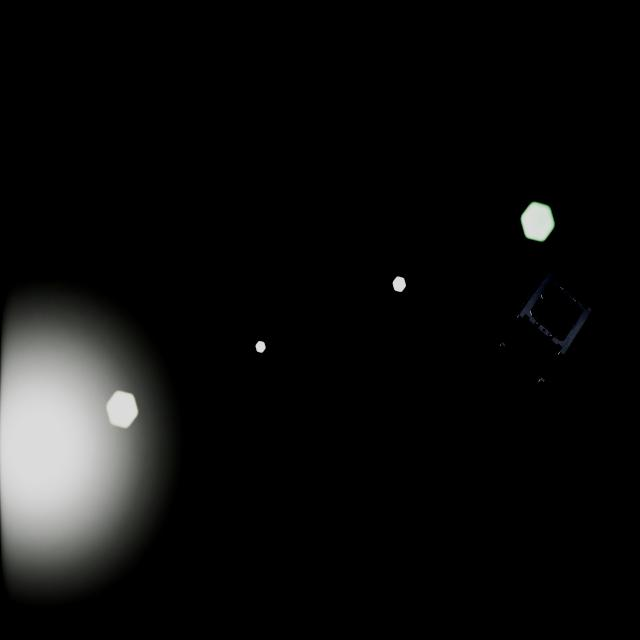satellite: (490, 272, 597, 389)
